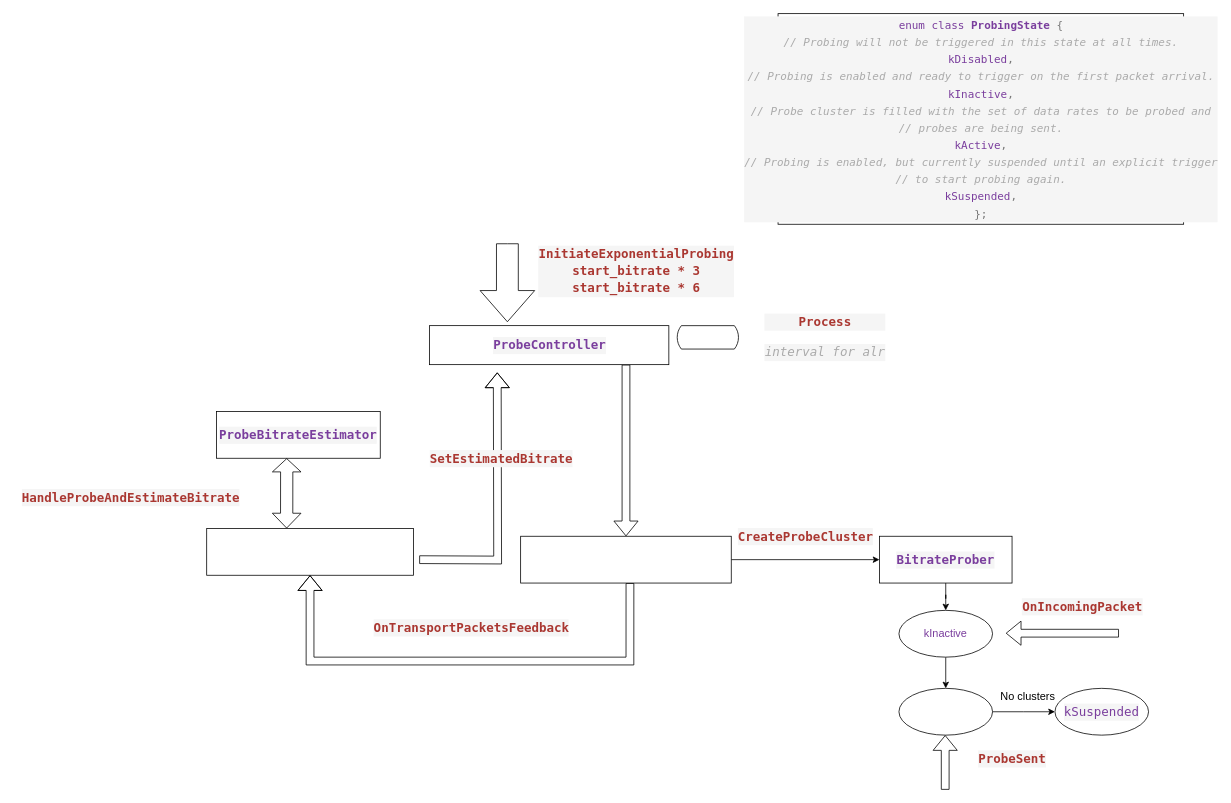
Some shapes in this 1231 by 803 pixel diagram are drawn without their labels. The box of each missing label's shape, as (x1, y1, x2, y2) in pixels:
GoogCcNetworkController: (206, 528, 413, 575)
kActive: (898, 688, 993, 735)
RtpTransportControllerSend: (520, 535, 731, 583)
